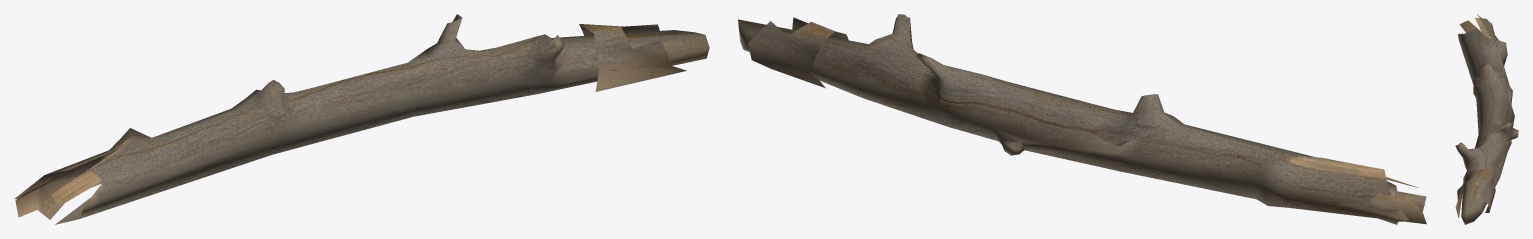
Rendered from club_ground_c.glb.
3 views of the same model, side by side, from view 1: azimuth 30°, elevation 25°; view 2: azimuth 150°, elevation 25°; view 3: azimuth 270°, elevation 25° (orthographic). The views are drawn at different scales.
Bounding box in the file's own units: 0.4107 × 0.0454 × 0.0552.
1 material, 1 textured.
